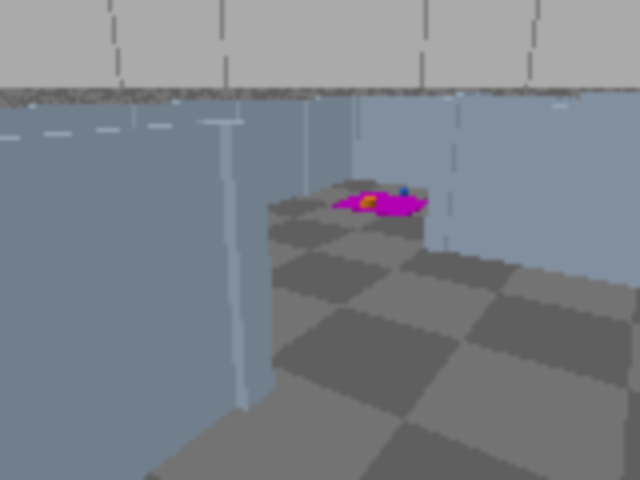goal_zone: (330, 191, 435, 218)
